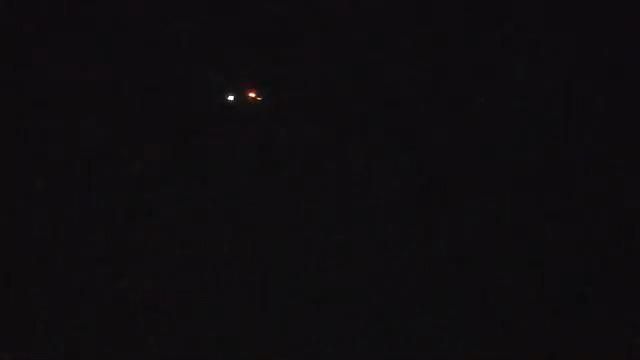Plane: (208, 83, 285, 111)
